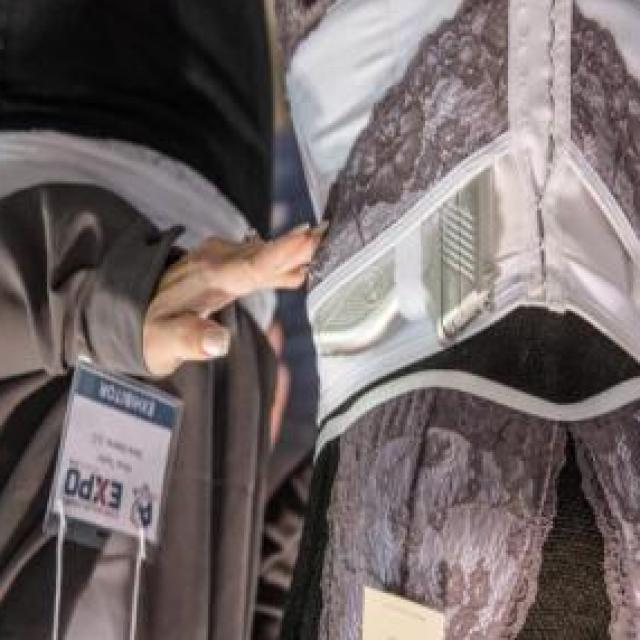pistol: (308, 37, 506, 400)
